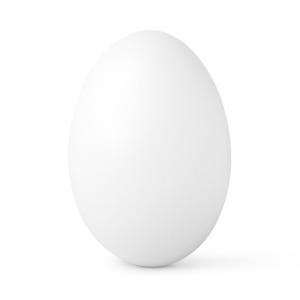Egg: (65, 28, 235, 268)
